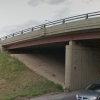Bridge: (3, 13, 98, 57)
